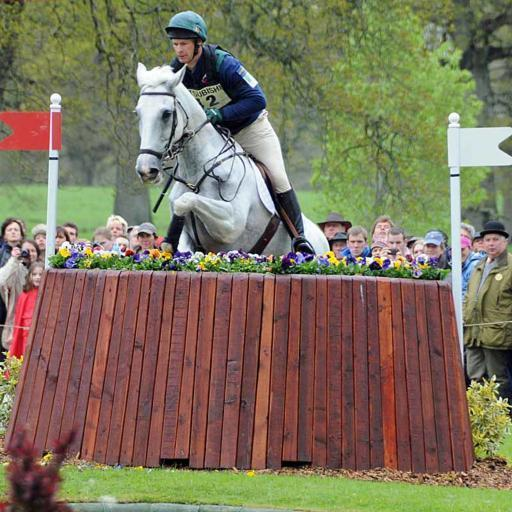horse: (134, 62, 334, 257)
